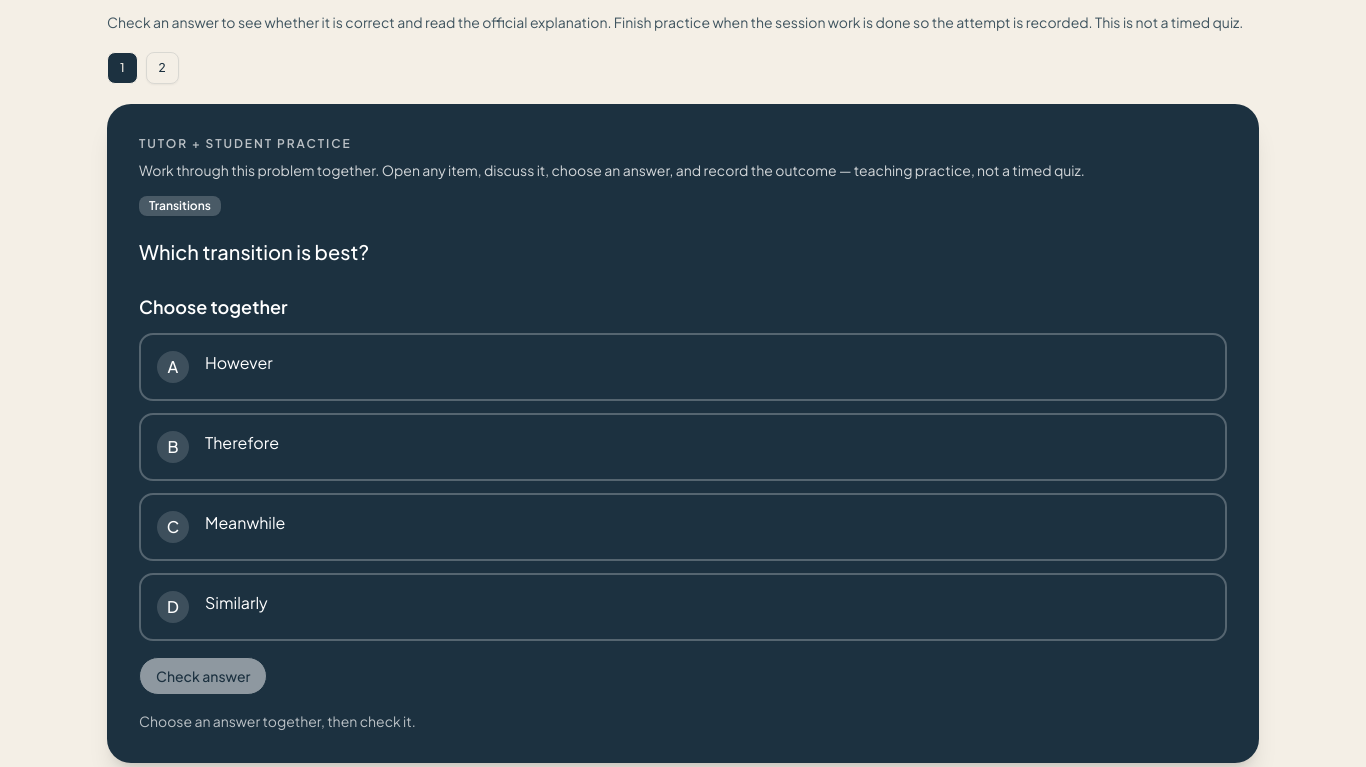
Test: student attempt UI › in-session practice checks one question and shows feedback without submitting the quiz
The width and height of the screenshot is (1366, 767).
Click the button "A However" at [173, 366], box [139,332,1227,400]
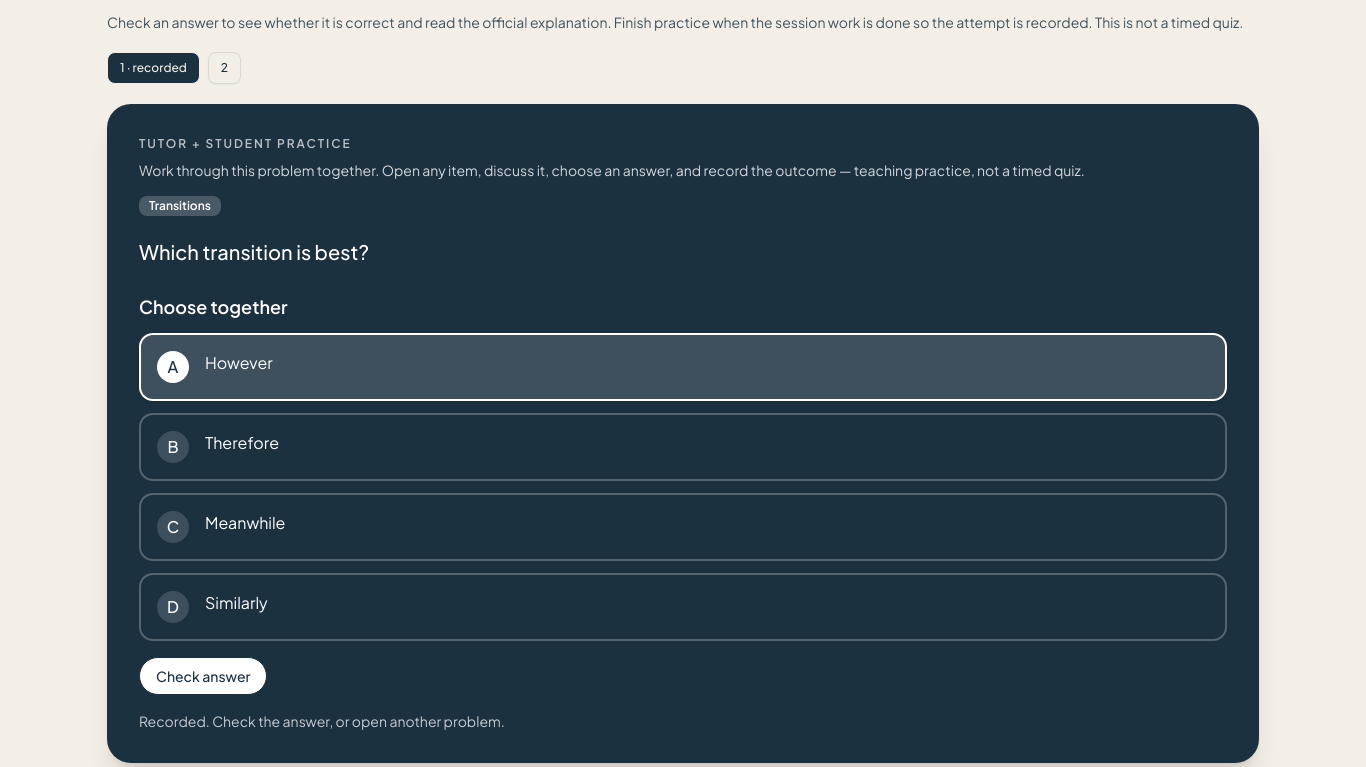
Click the button with test id "check-answer" at [203, 676], box [139,656,267,694]
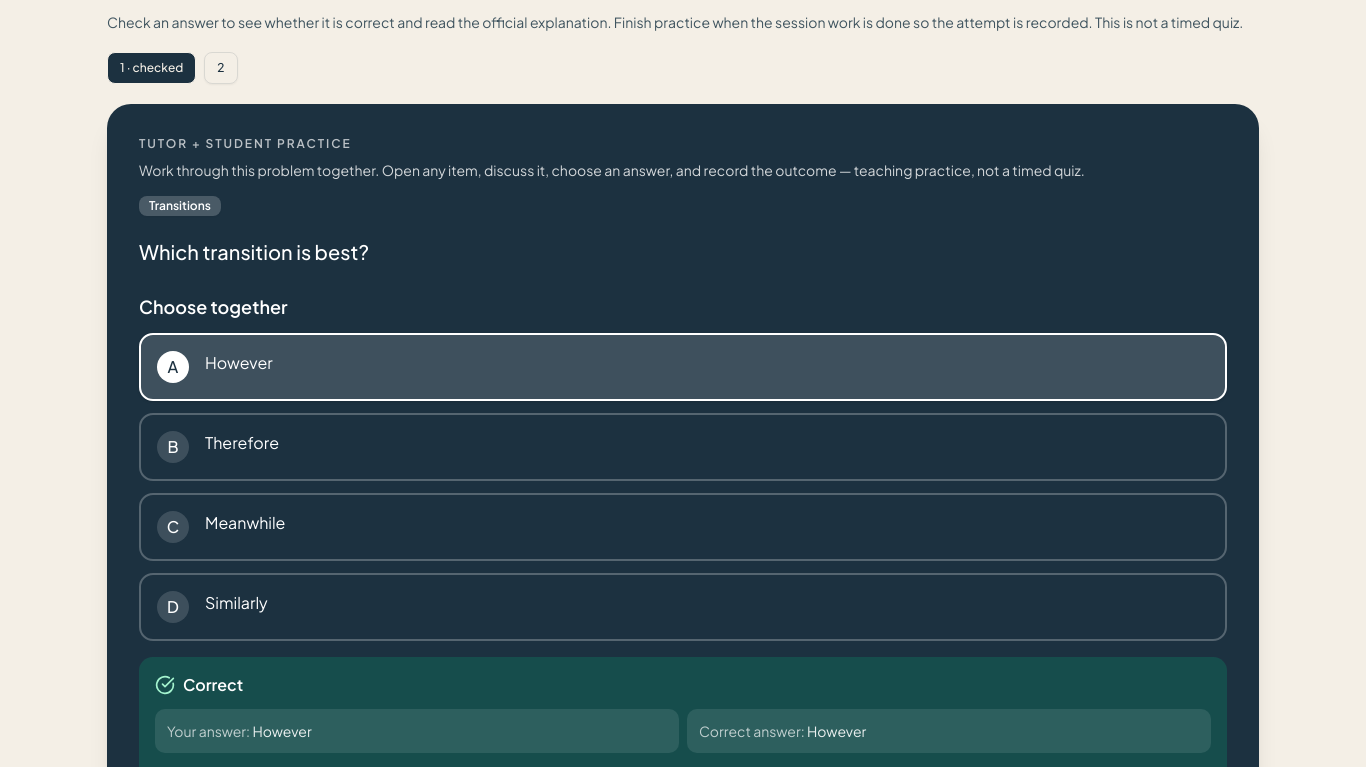
Check: the element with test id "question-feedback" shows "Correct", box [183,674,243,694]
Click the button "2" at [221, 68], box [204,52,238,84]
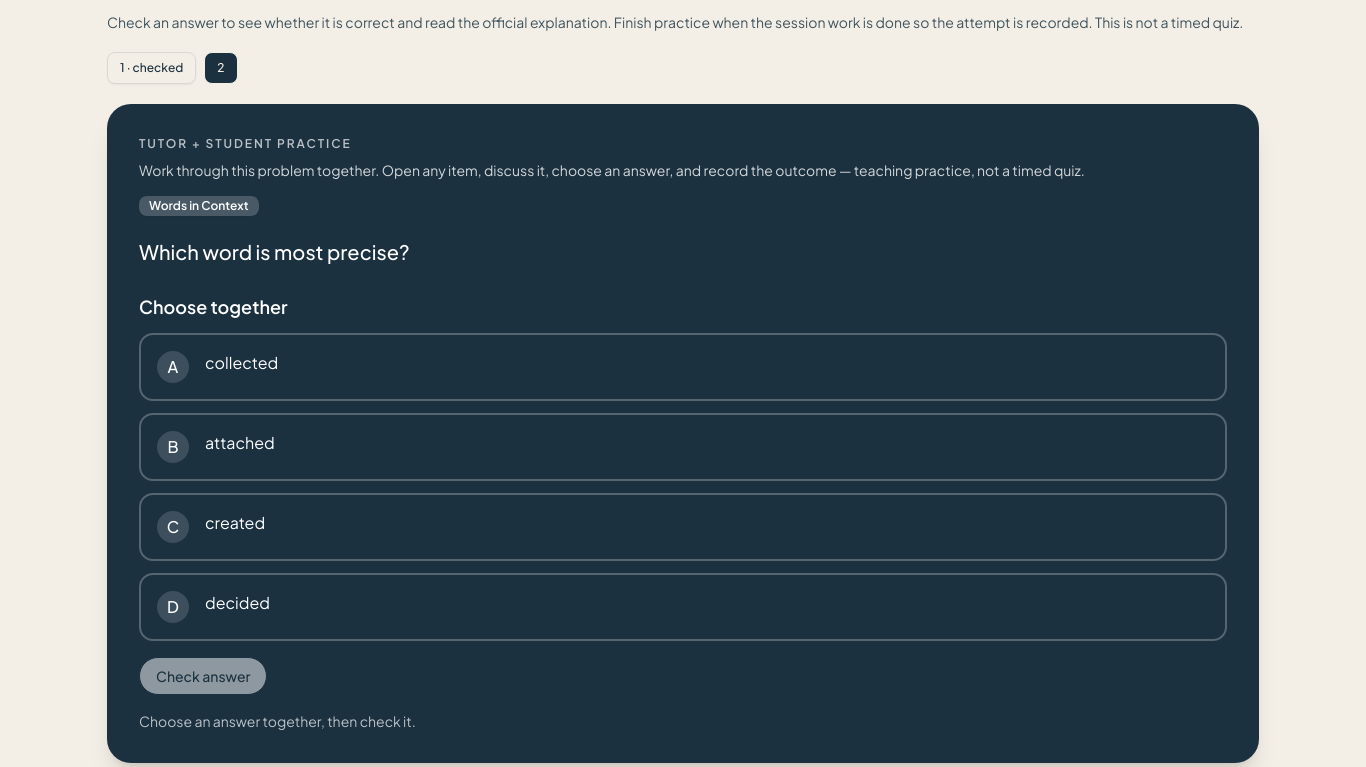
Check: the text "Which word is most precise?" is shown, box [139,239,410,264]
Check: the button with test id "check-answer" is disabled, box [139,656,267,694]
